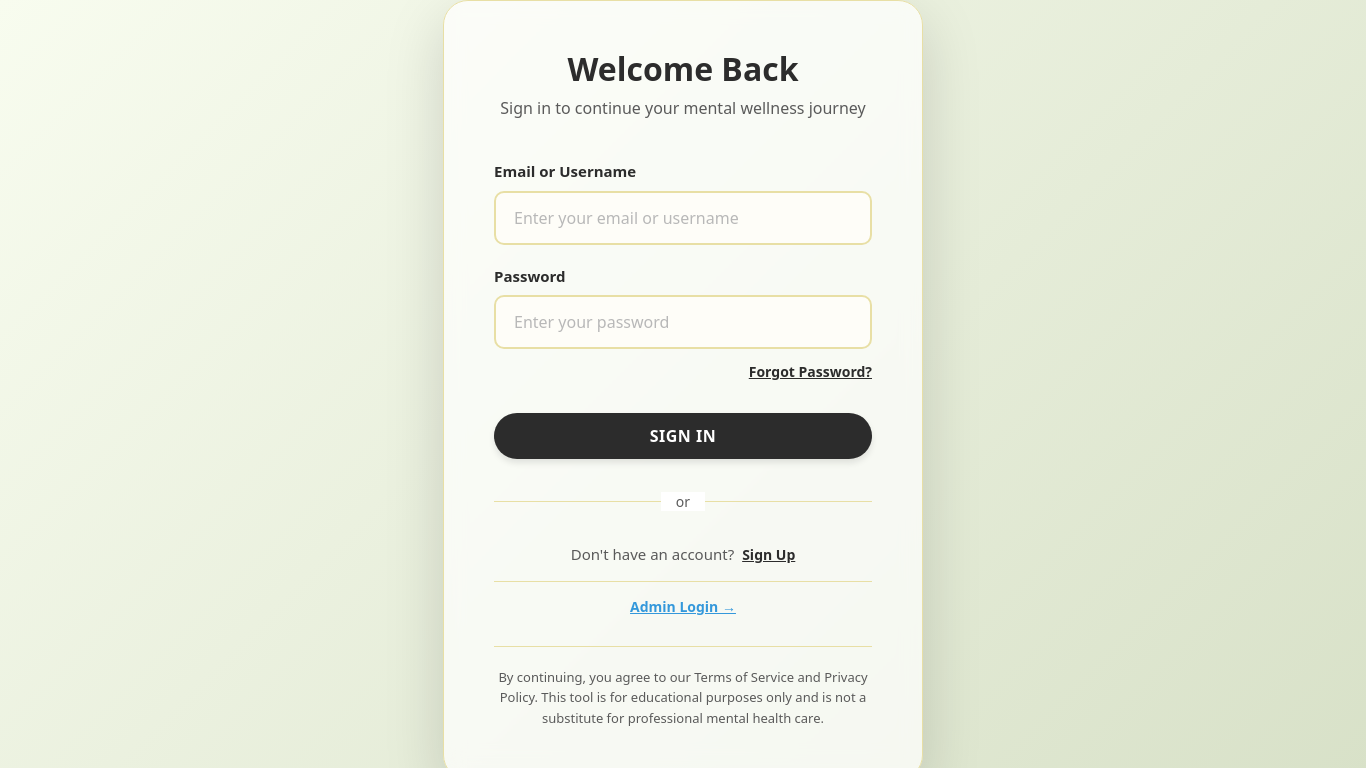
Test: Login Page › displays error on login failure
This screenshot has width=1366, height=768.
Step 1. Type "wrong@test.com" into the field with placeholder "Enter your email or username" → (683, 218), box [494,191,872,245]
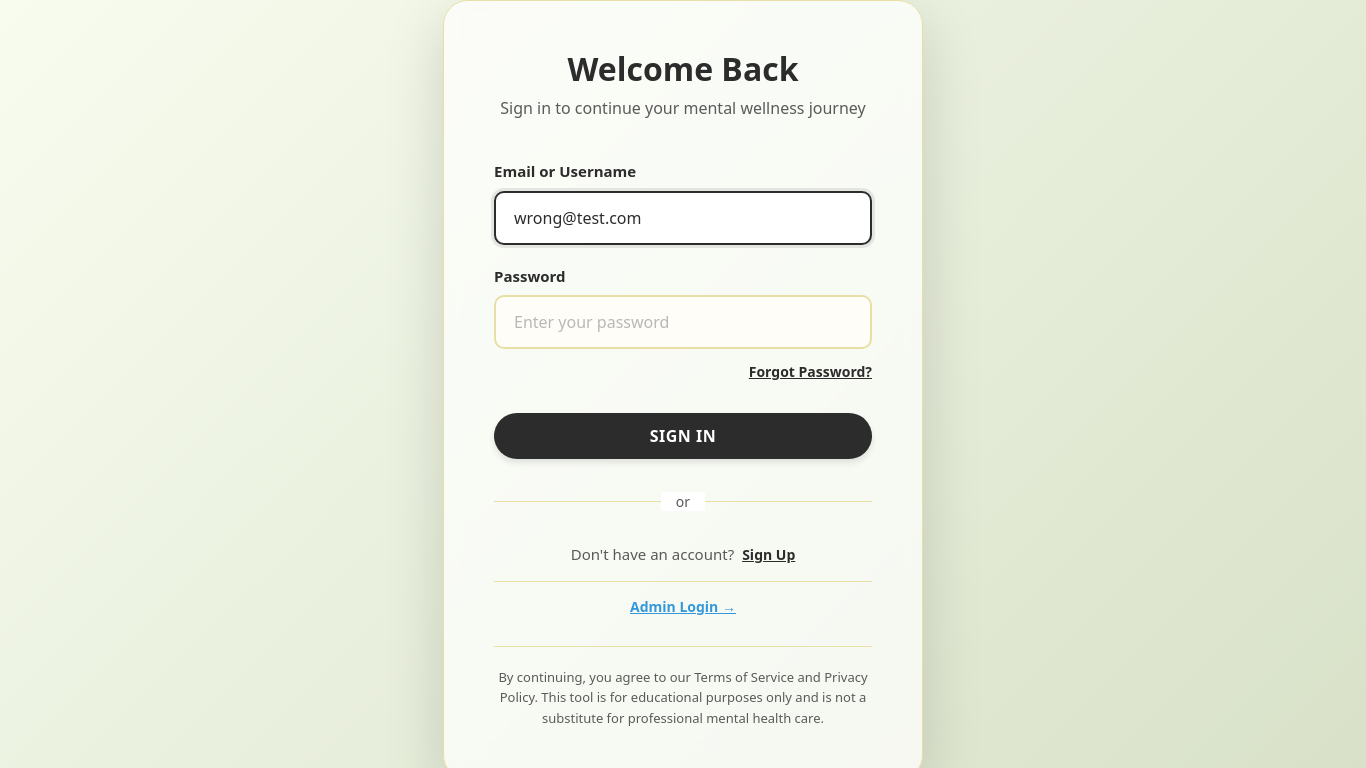
Step 2. Type "wrong" into the password field with placeholder "Enter your password" → (683, 322), box [494,295,872,349]
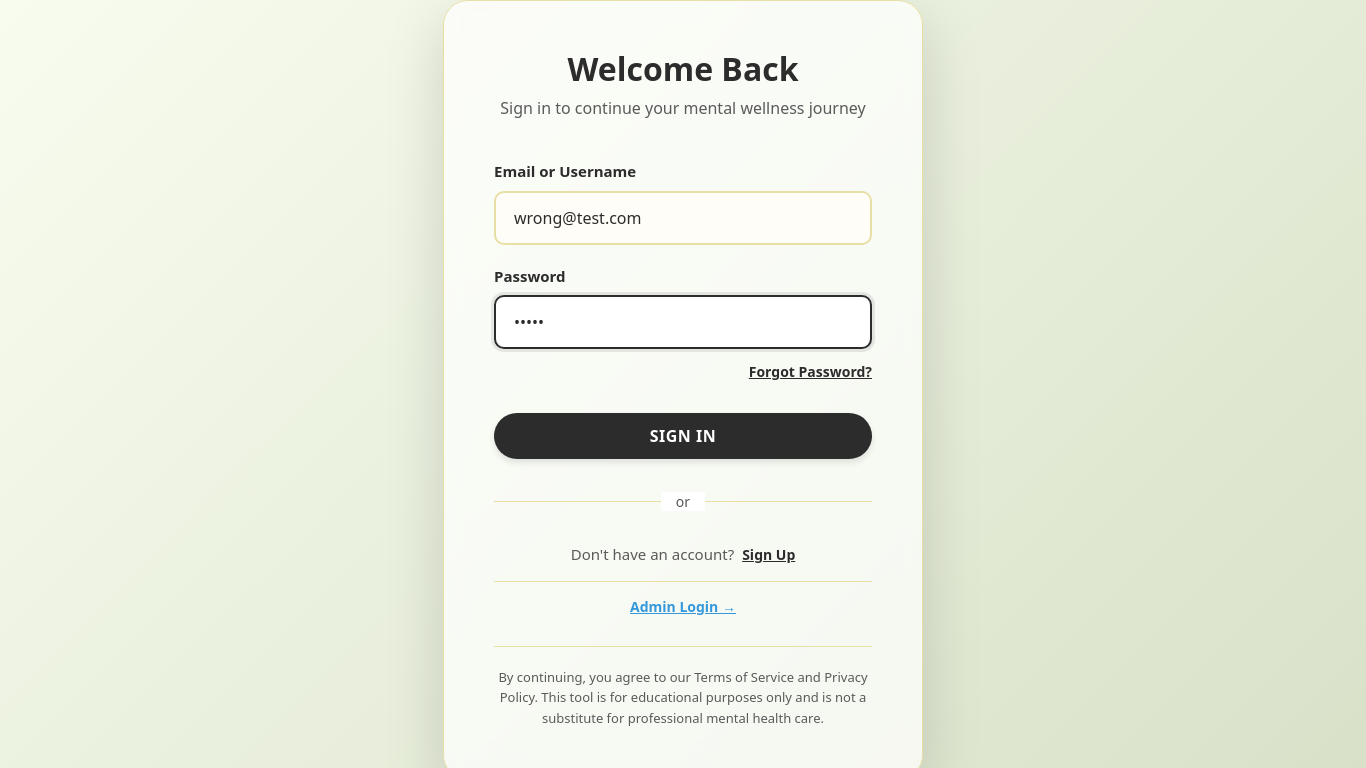
Step 3. Click the button "Sign In" → (683, 436), box [494,413,872,459]
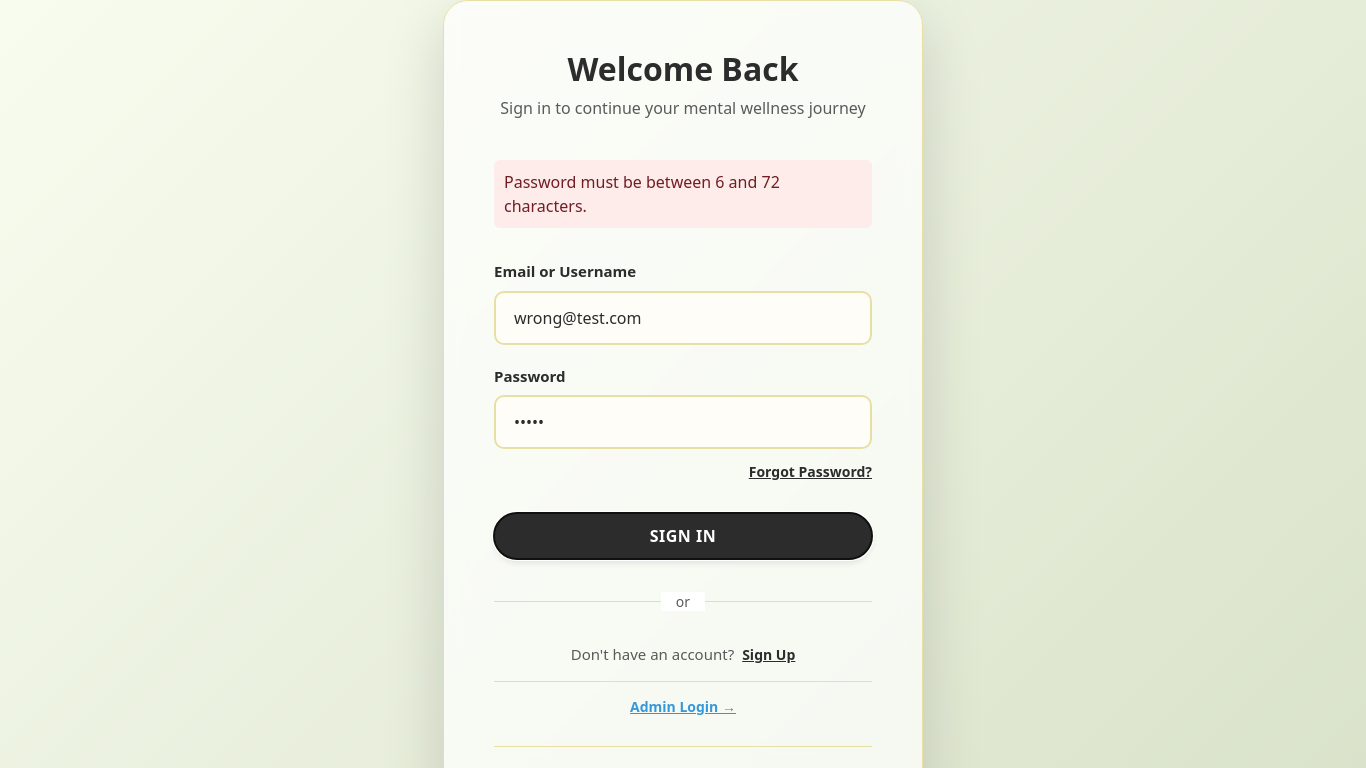
expect the text "Password must be between 6 and 72 characters." is shown: met, box [494,160,872,228]
